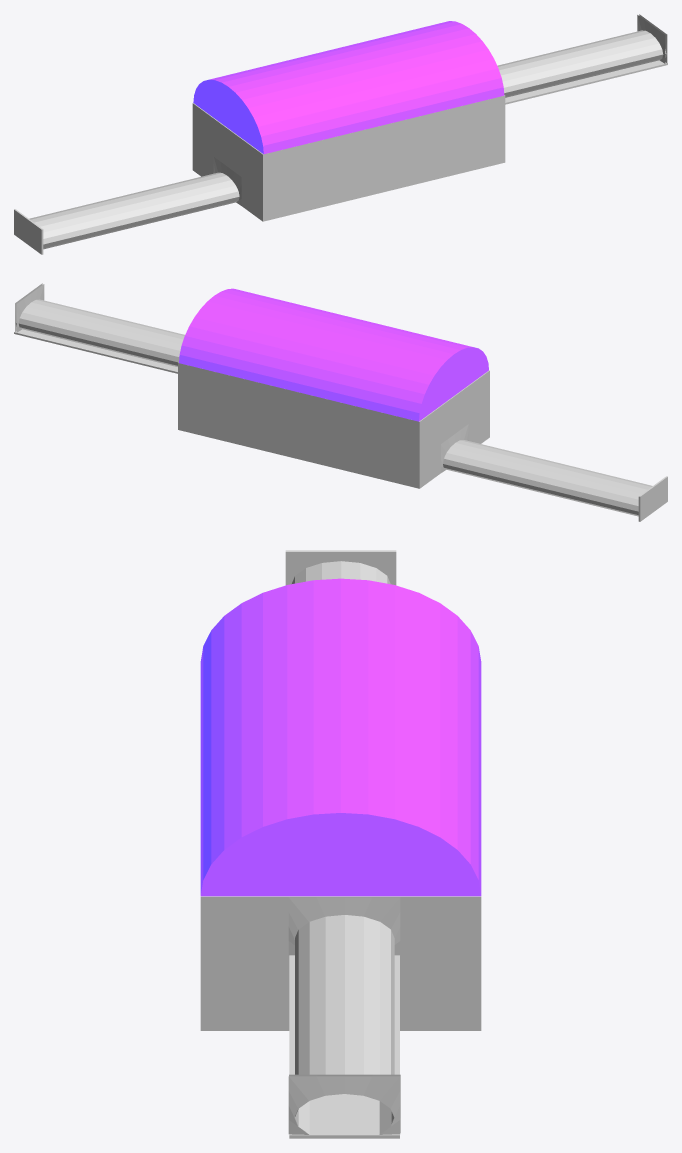
The model's file is LEVEL1_REWIND.fbx.
3 renders of one model, top to bottom at view 1: azimuth 30°, elevation 25°; view 2: azimuth 150°, elevation 25°; view 3: azimuth 270°, elevation 25°, orthographic. The views are drawn at different scales.
Parts seen in each view (by area): view 1: Cylinder, Wall.002, Wall.004, Corridor, Cube.002, Cube.001, Door panel.004; view 2: Cylinder, Wall, Wall.004, Corridor, Cube.002, Cube.001, Door panel.004; view 3: Cylinder, Wall.001, Corridor, Cube.002, Door panel.001, Door panel.002, Cube.001, Wall.004.
Part boxes in pixels (<box>): Cylinder: <box>193,21,504,154</box>; Wall.002: <box>263,96,504,221</box>; Wall.004: <box>29,103,264,249</box>; Corridor: <box>497,30,665,97</box>; Cube.002: <box>505,60,667,104</box>; Cube.001: <box>14,209,43,254</box>; Door panel.004: <box>637,15,665,63</box>; Cylinder: <box>179,288,488,421</box>; Wall: <box>179,363,418,488</box>; Wall.004: <box>418,370,652,516</box>; Corridor: <box>15,299,184,366</box>; Cube.002: <box>14,329,177,373</box>; Cube.001: <box>638,476,667,521</box>; Door panel.004: <box>16,284,44,332</box>; Cylinder: <box>200,578,481,896</box>; Wall.001: <box>200,896,481,1030</box>; Corridor: <box>295,915,394,1134</box>; Cube.002: <box>289,955,399,1138</box>; Door panel.001: <box>288,1076,400,1134</box>; Door panel.002: <box>288,897,400,955</box>; Cube.001: <box>285,550,396,585</box>; Wall.004: <box>292,561,390,584</box>.
Bounding box in the file's own units: 78177 × 12985 × 15200.
